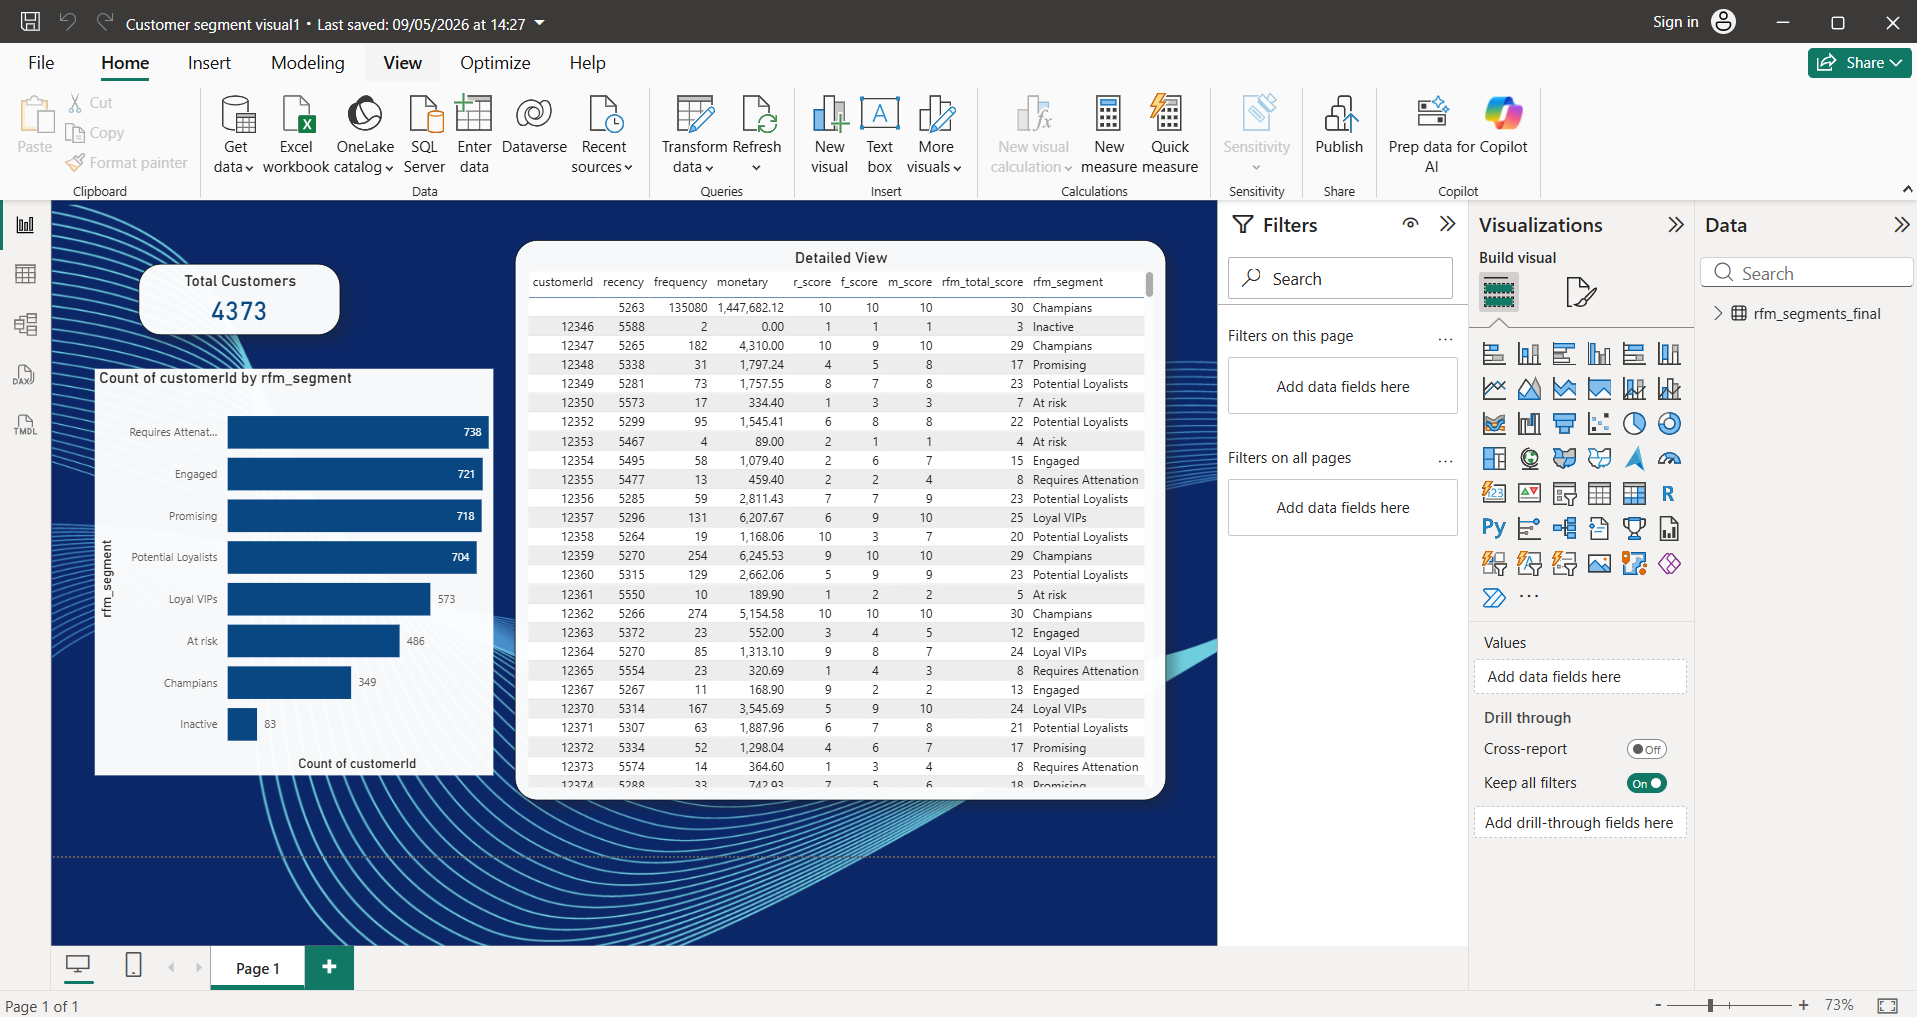

What the dashboard file says about the page in this screenshot:
{"tool":"powerbi","page":{"name":"Page 1","canvas":[1280,720],"ordinal":0},"visuals":[{"type":"clusteredBarChart","fields":{"Y":["CountNonNull(rfm_segments_final.customerId)"],"Category":["rfm_segments_final.rfm_segment"]},"box":[47.7,184.8,437.7,446.4],"z":0},{"type":"card","title":"Total Customers","fields":{"Values":["rfm_segments_final.total_customers1"]},"box":[96.3,70,221.8,78.8],"z":1000},{"type":"tableEx","title":"Detailed View","fields":{"Values":["rfm_segments_final.customerId","rfm_segments_final.recency","rfm_segments_final.frequency","rfm_segments_final.monetary","rfm_segments_final.r_score","rfm_segments_final.f_score","rfm_segments_final.m_score","rfm_segments_final.rfm_total_score","rfm_segments_final.rfm_segment"]},"box":[509.6,43.9,715.5,615.2],"z":2000}]}

Visuals, with their boxes on the page's 1280x720 design canvas (x1, y1, x2, y2). These are canvas units, not pixel positions in the 1917x1017 screenshot, which may show the page scaled, cropped or inside an application window:
clusteredBarChart - CountNonNull(rfm_segments_final.customerId) x rfm_segments_final.rfm_segment: bbox=[48, 185, 485, 631]
"Total Customers" card: bbox=[96, 70, 318, 149]
"Detailed View" tableEx: bbox=[510, 44, 1225, 659]
